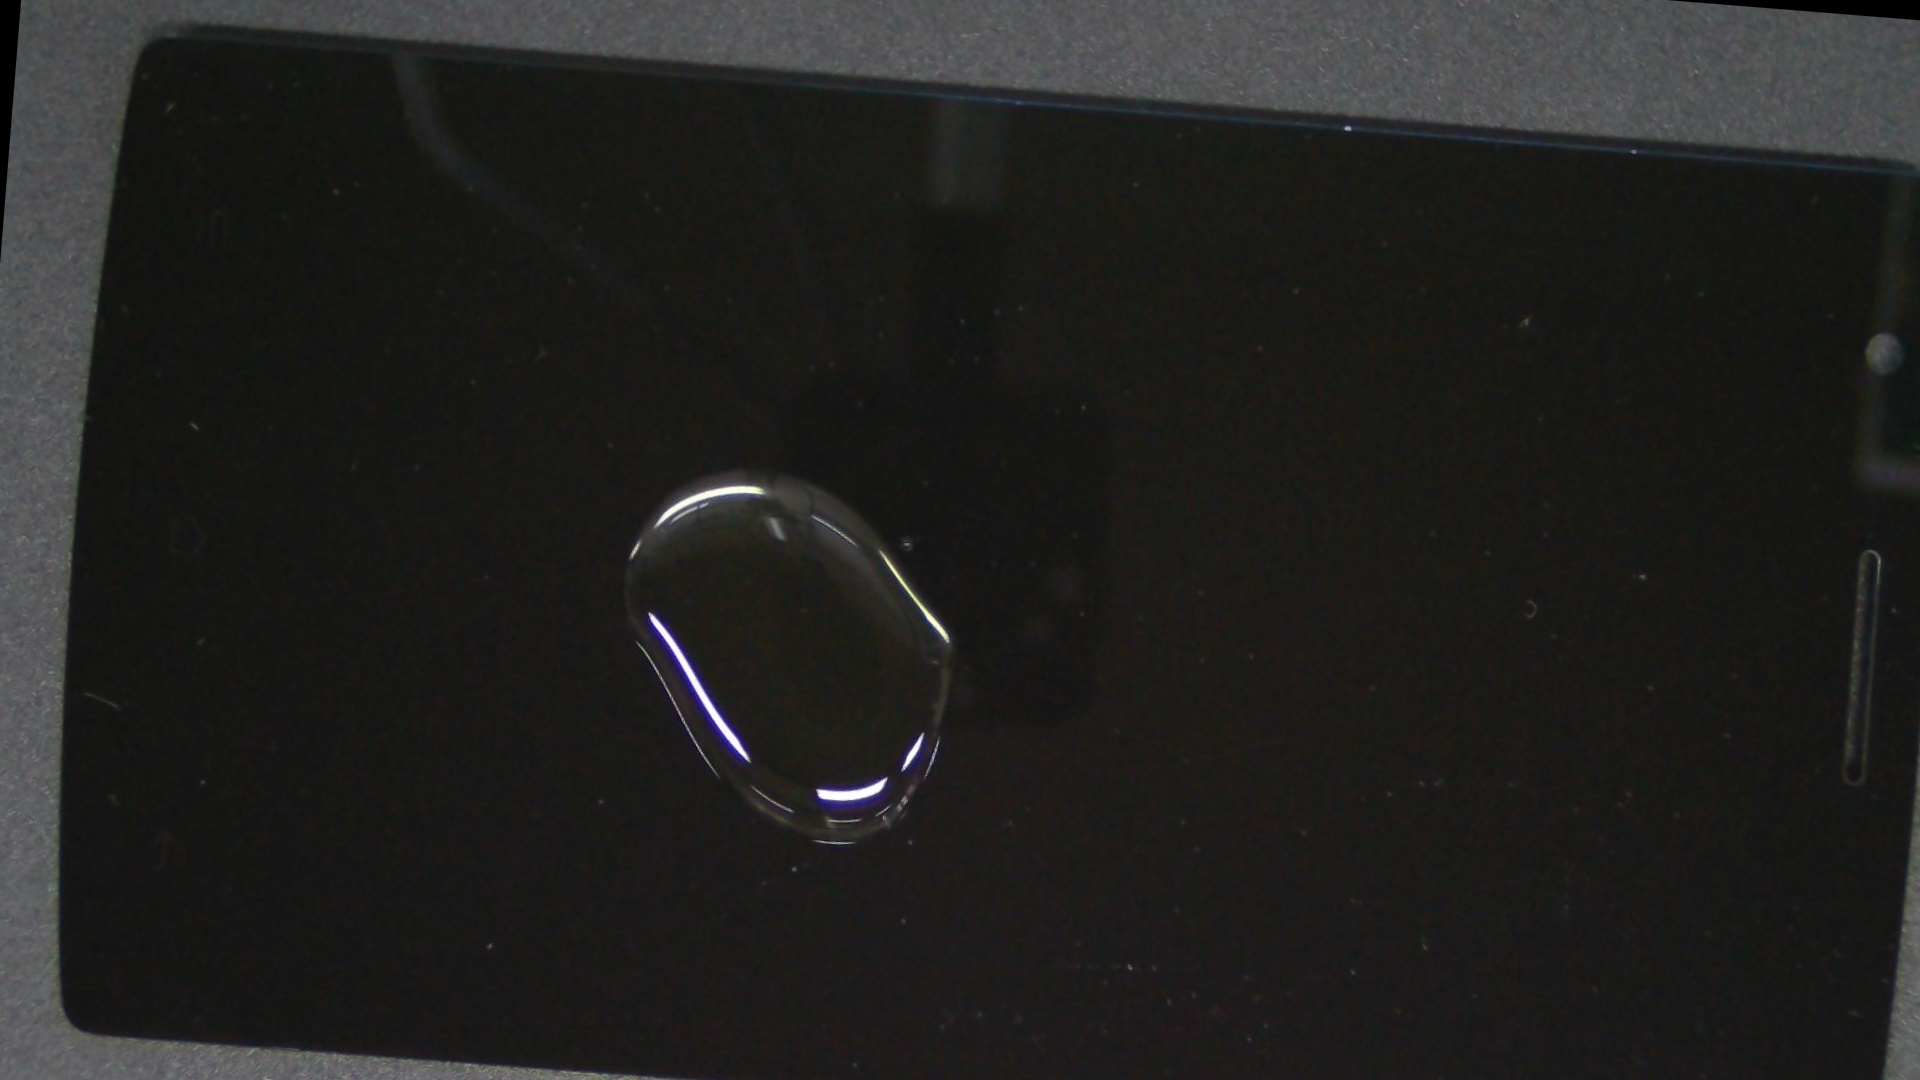oil: (345, 169, 1145, 770)
